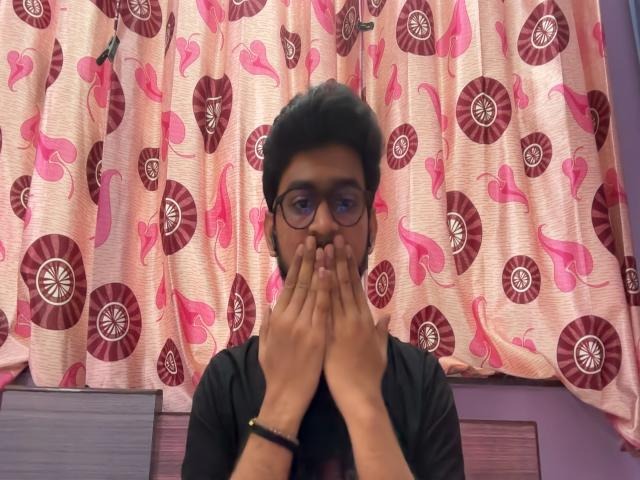Thanks: (252, 234, 396, 424)
